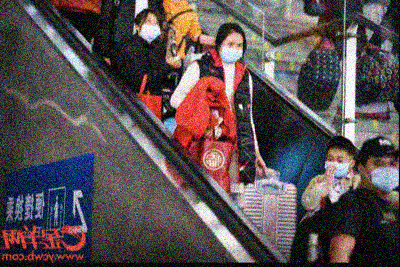with_mask: (366, 158, 397, 193), (322, 154, 349, 178), (138, 16, 160, 42), (220, 40, 244, 62)
